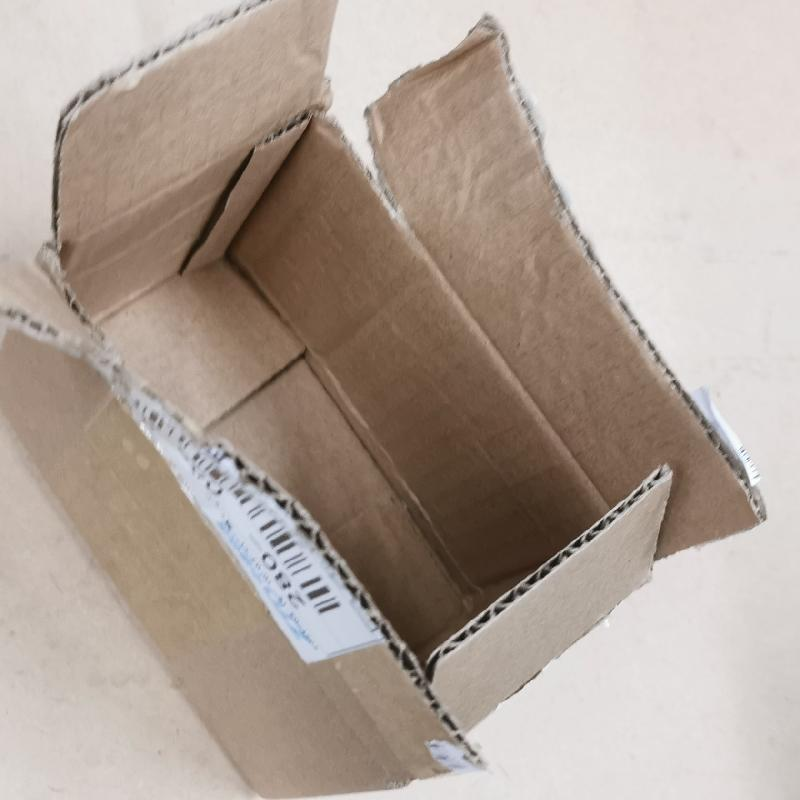boxes: (6, 3, 760, 799)
